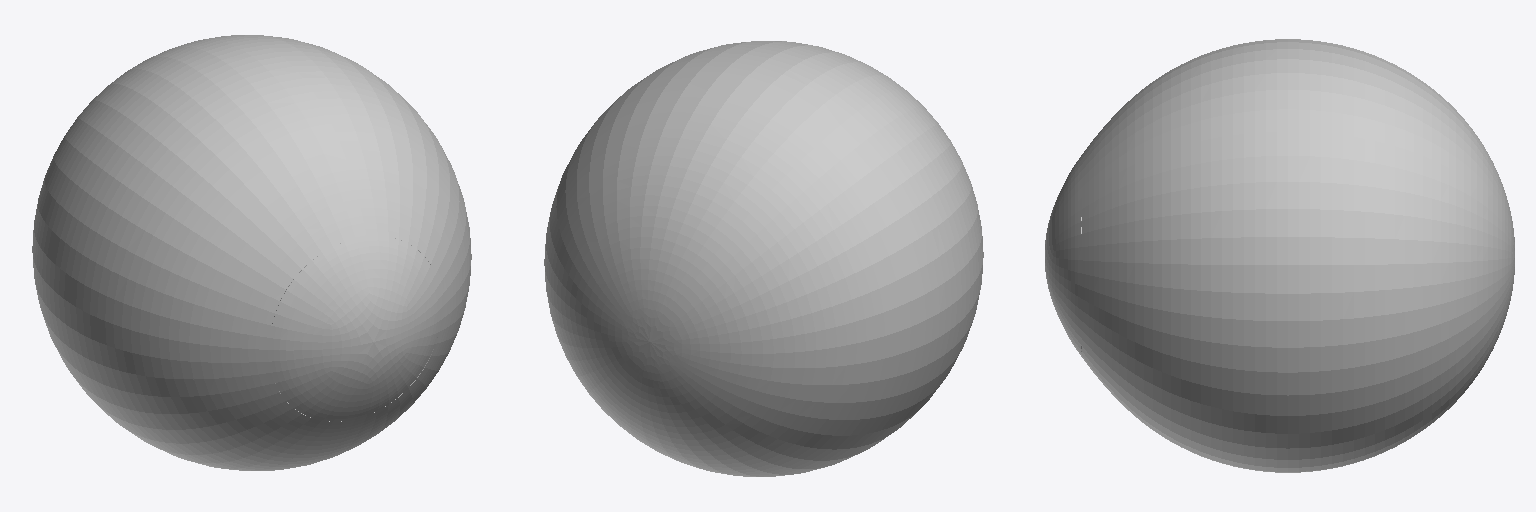
Rendered from eye.obj.
3 renders of one model, left to right at view 1: azimuth 30°, elevation 25°; view 2: azimuth 150°, elevation 25°; view 3: azimuth 270°, elevation 25°, orthographic.
Parts seen in each view (by area): view 1: Eye.blue.2; view 2: Eye.blue.2; view 3: Eye.blue.2.
Part boxes in pixels (bbox=[...]): Eye.blue.2: bbox=[32, 35, 471, 470]; Eye.blue.2: bbox=[544, 41, 983, 476]; Eye.blue.2: bbox=[1045, 39, 1514, 472].
Size of the model in its own units: 0.024 by 0.024 by 0.026.